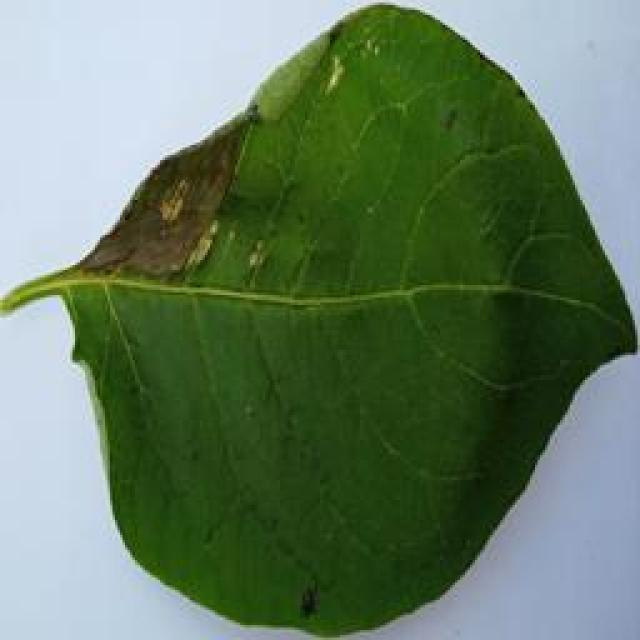Potato_Late_Blight: (2, 5, 626, 634)
